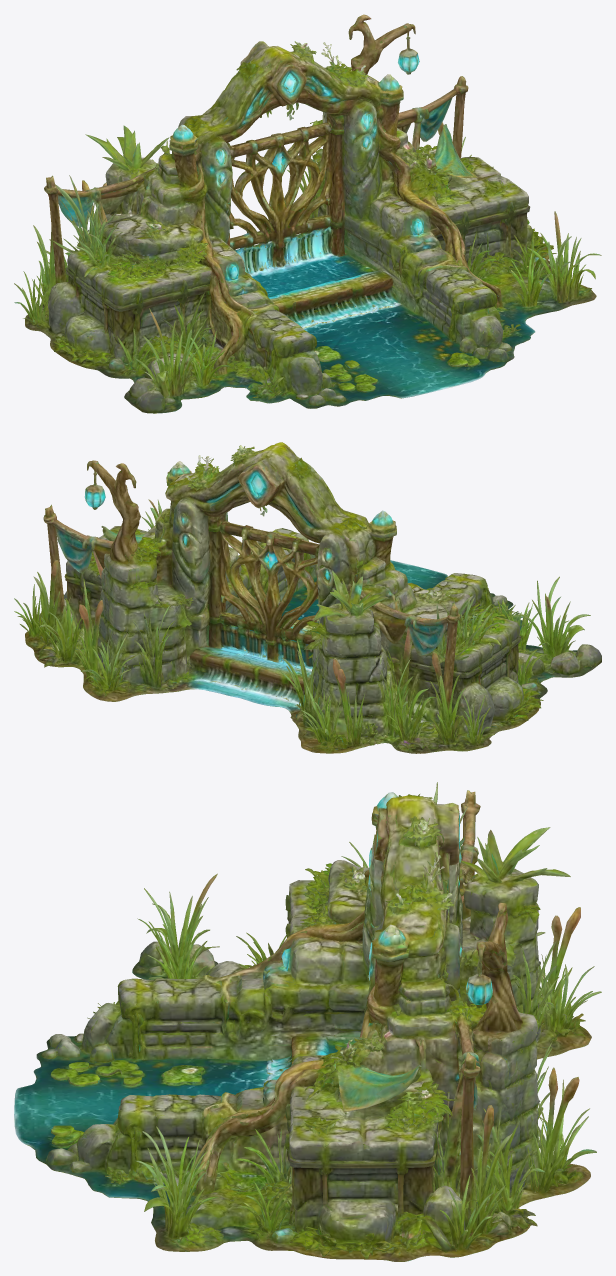
Rendered from canal-lock-sluice.glb.
3 views of the same model, one above another, from view 1: azimuth 30°, elevation 25°; view 2: azimuth 150°, elevation 25°; view 3: azimuth 270°, elevation 25° (orthographic). The views are drawn at different scales.
Bounding box in the file's own units: 1.9 × 0.8767 × 1.51.
1 material, 1 textured.
